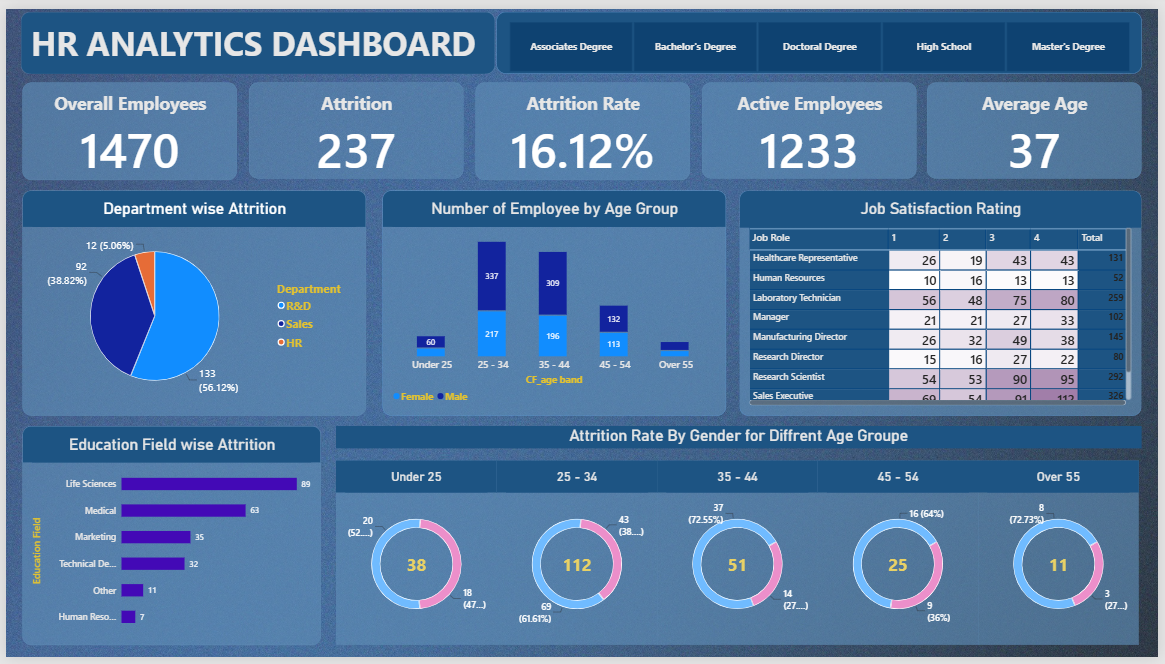

The dashboard page shown, as its layout file describes it:
{"tool":"powerbi","page":{"name":"Page 1","canvas":[1920,1080],"ordinal":0},"visuals":[{"type":"card","title":"Overall Employees ","fields":{"Values":["Sum(HR data.Employee Count)"]},"box":[27.5,122.5,357.5,162.5],"z":0},{"type":"card","title":"Attrition ","fields":{"Values":["Sum(HR data.Attrition count)"]},"box":[405,122.5,357.5,160],"z":1000},{"type":"card","title":"Attrition Rate ","fields":{"Values":["HR data.Attrition Rate"]},"box":[782.5,122.5,357.5,162.5],"z":2000},{"type":"card","title":"Active Employees ","fields":{"Values":["HR data.Active Employees"]},"box":[1160,122.5,357.5,160],"z":3000},{"type":"card","title":"Average Age ","fields":{"Values":["Avg(HR data.Age)"]},"box":[1535,122.5,357.5,160],"z":4000},{"type":"pieChart","title":"Department wise Attrition","fields":{"Category":["HR data.Department"],"Y":["Sum(HR data.Attrition count)"]},"box":[27.5,302.5,572.5,375],"z":5000},{"type":"columnChart","title":"Number of Employee by Age Group ","fields":{"Category":["HR data.CF_age band"],"Series":["HR data.Gender"],"Y":["Sum(HR data.Employee Count)"]},"box":[627.5,302.5,572.5,375],"z":6000},{"type":"pivotTable","title":"Job Satisfaction Rating","fields":{"Columns":["HR data.Job Satisfaction"],"Rows":["HR data.Job Role"],"Values":["Sum(HR data.Employee Count)"]},"box":[1222.5,302.5,670,375],"z":7000},{"type":"barChart","title":"Education Field wise Attrition","fields":{"Category":["HR data.Education Field"],"Y":["Sum(HR data.Attrition count)"]},"box":[27.5,695,497.5,365],"z":8000},{"type":"donutChart","title":"Under 25","fields":{"Category":["HR data.Gender"],"Series":["HR data.CF_age band"],"Y":["Sum(HR data.Attrition count)"]},"box":[550,752.5,268,307.5],"z":9000},{"type":"textbox","title":"Attrition Rate By Gender for Diffrent Age Groupe","box":[550,695,1342.5,37.5],"z":10000},{"type":"donutChart","title":"35 - 44","fields":{"Category":["HR data.Gender"],"Series":["HR data.CF_age band"],"Y":["Sum(HR data.Attrition count)"]},"box":[1085,752.5,268,307.5],"z":11000},{"type":"donutChart","title":"25 - 34 ","fields":{"Category":["HR data.Gender"],"Series":["HR data.CF_age band"],"Y":["Sum(HR data.Attrition count)"]},"box":[817.5,752.5,268,307.5],"z":12000},{"type":"donutChart","title":"45 - 54","fields":{"Category":["HR data.Gender"],"Series":["HR data.CF_age band"],"Y":["Sum(HR data.Attrition count)"]},"box":[1352.5,752.5,268,307.5],"z":13000},{"type":"donutChart","title":"Over 55","fields":{"Category":["HR data.Gender"],"Series":["HR data.CF_age band"],"Y":["Sum(HR data.Attrition count)"]},"box":[1620,752.5,268,307.5],"z":14000},{"type":"textbox","title":"HR ANALYTICS DASHBOARD","box":[26,4,790,103],"z":15000},{"type":"slicer","fields":{"Values":["HR data.Education"]},"box":[817.5,5,1075,102.5],"z":15001}]}

Visuals, with their boxes in screenshot pixels (x1, y1, x2, y2), scaled from the page's 1920x1080 canvas onto the 1165x664 screenshot:
"Overall Employees " card: 17/75/234/175
"Attrition " card: 246/75/463/174
"Attrition Rate " card: 475/75/692/175
"Active Employees " card: 704/75/921/174
"Average Age " card: 931/75/1148/174
"Department wise Attrition" pieChart: 17/186/364/417
"Number of Employee by Age Group " columnChart: 381/186/728/417
"Job Satisfaction Rating" pivotTable: 742/186/1148/417
"Education Field wise Attrition" barChart: 17/427/319/652
"Under 25" donutChart: 334/463/496/652
"Attrition Rate By Gender for Diffrent Age Groupe" textbox: 334/427/1148/450
"35 - 44" donutChart: 658/463/821/652
"25 - 34 " donutChart: 496/463/659/652
"45 - 54" donutChart: 821/463/983/652
"Over 55" donutChart: 983/463/1146/652
"HR ANALYTICS DASHBOARD" textbox: 16/2/495/66
slicer - HR data.Education: 496/3/1148/66
